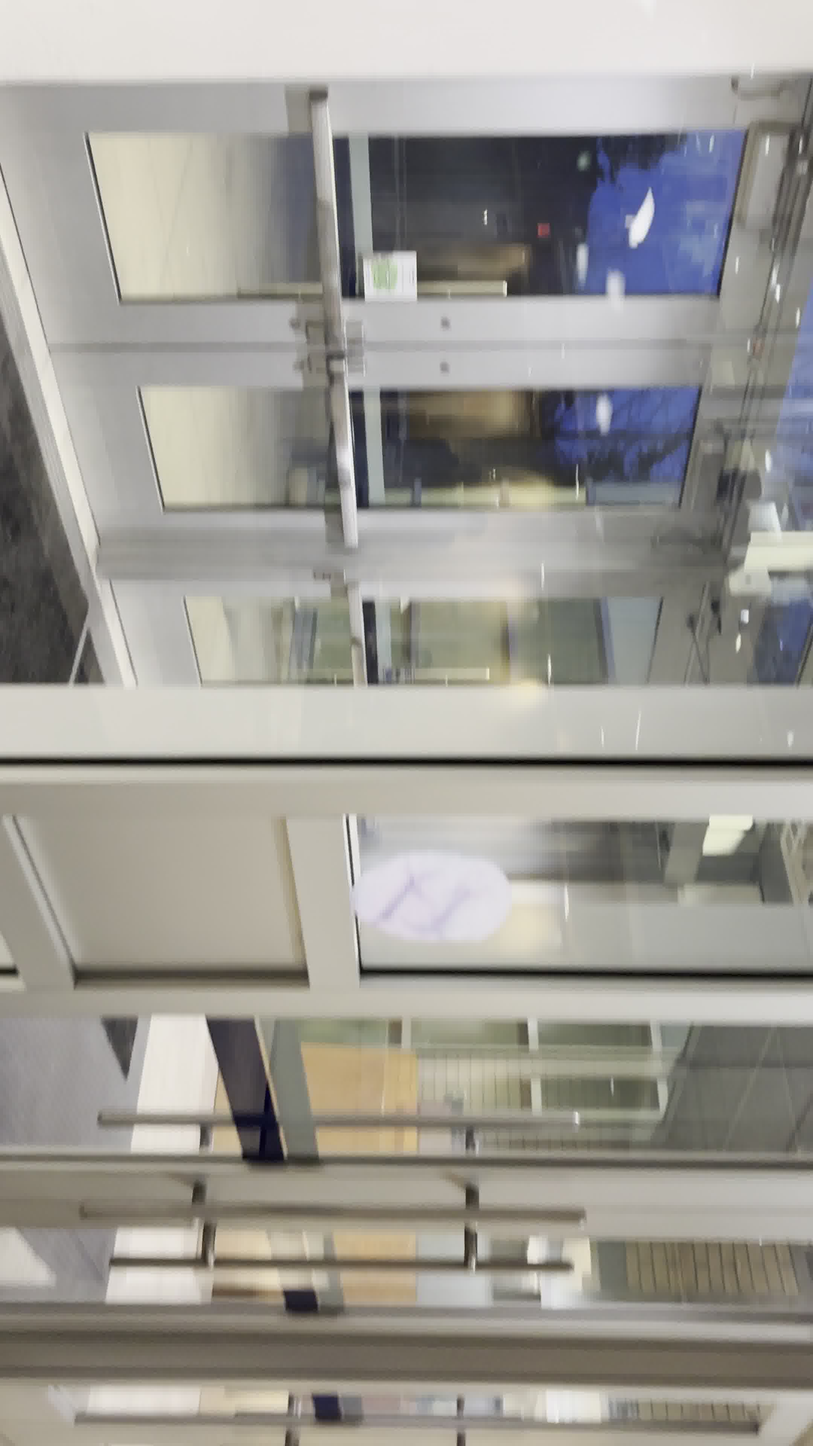Target: (350, 837, 520, 950)
